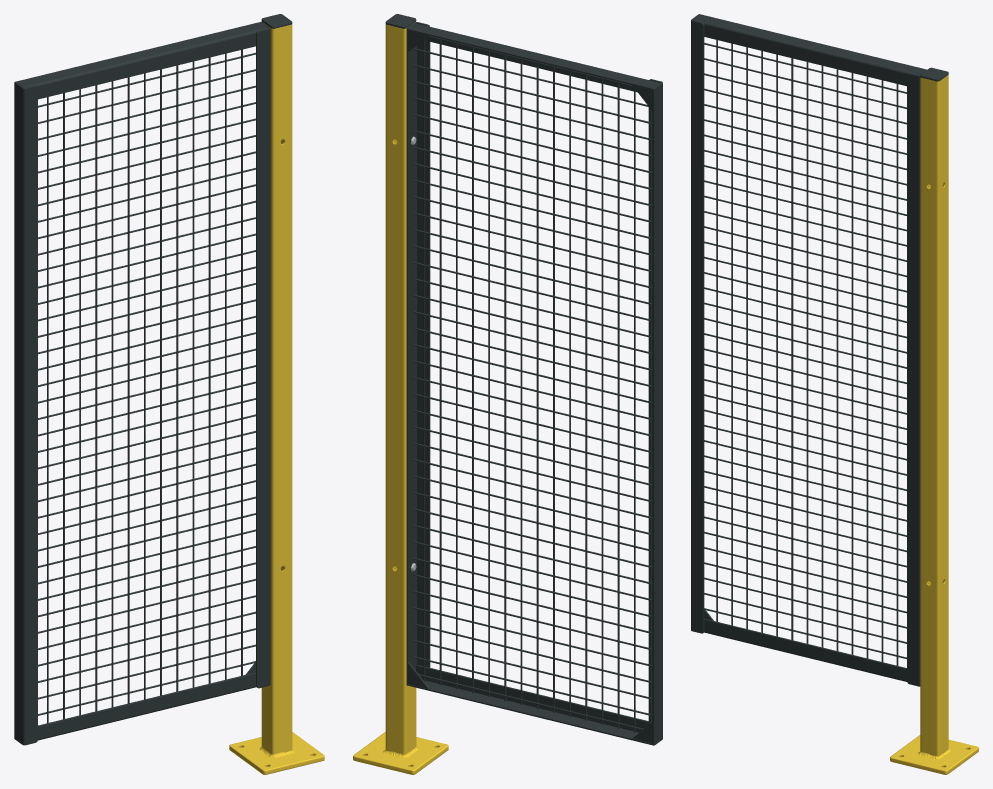
Rendered from wire_machineGuard_a02.glb.
3 views of the same model, side by side, from view 1: azimuth 30°, elevation 25°; view 2: azimuth 150°, elevation 25°; view 3: azimuth 330°, elevation 25° (orthographic). The views are drawn at different scales.
Bounding box in the file's own units: 0.7 × 1.7 × 0.15.
